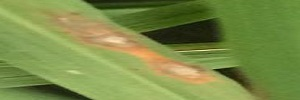RiceBlast: (53, 11, 219, 88)
